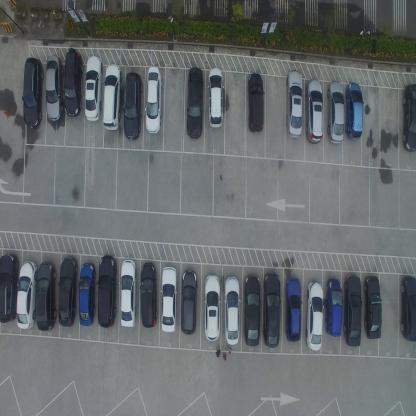car: (15, 258, 38, 330), (22, 57, 44, 130), (34, 261, 56, 332), (96, 254, 117, 328), (57, 256, 78, 328), (262, 270, 281, 348), (122, 71, 142, 142), (64, 47, 84, 118), (185, 66, 204, 140), (344, 273, 362, 348), (305, 280, 324, 351), (102, 64, 122, 131), (0, 252, 19, 322), (242, 274, 260, 346), (45, 54, 64, 122), (285, 69, 303, 139), (139, 260, 157, 329), (305, 76, 323, 145), (180, 268, 198, 336), (160, 266, 178, 333), (145, 66, 162, 136), (119, 258, 136, 328), (364, 274, 382, 340), (84, 56, 102, 122), (326, 79, 344, 145), (78, 262, 96, 326), (246, 71, 264, 134), (224, 276, 240, 346), (284, 277, 300, 345), (204, 272, 220, 340), (400, 274, 416, 342), (346, 81, 364, 141), (325, 278, 343, 337), (401, 82, 416, 152), (207, 66, 223, 128)
